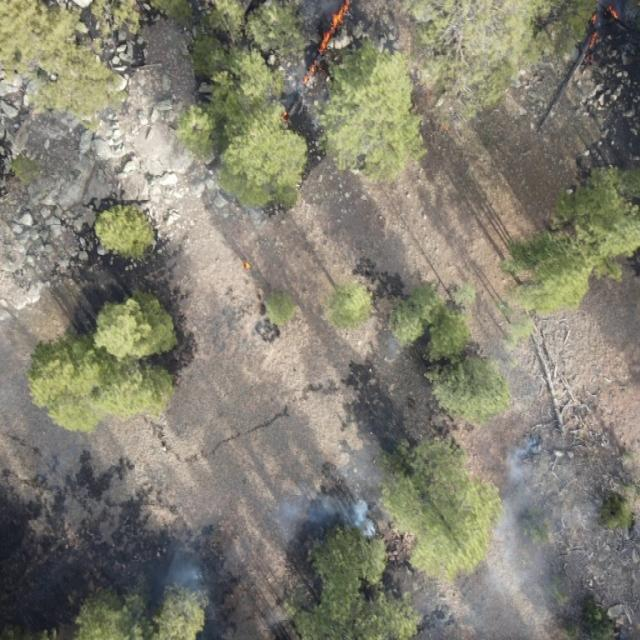fire: (292, 0, 355, 91), (586, 1, 622, 58), (278, 109, 292, 129), (637, 1, 640, 9)
smoke: (432, 431, 640, 640), (266, 477, 379, 565), (164, 534, 229, 638), (288, 2, 356, 98), (213, 188, 269, 238), (582, 0, 640, 38), (373, 327, 410, 372)
